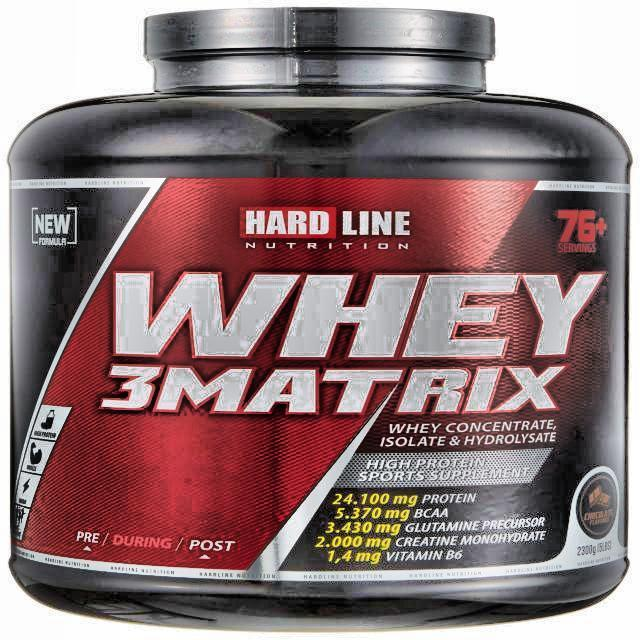plastic: (7, 5, 634, 632)
